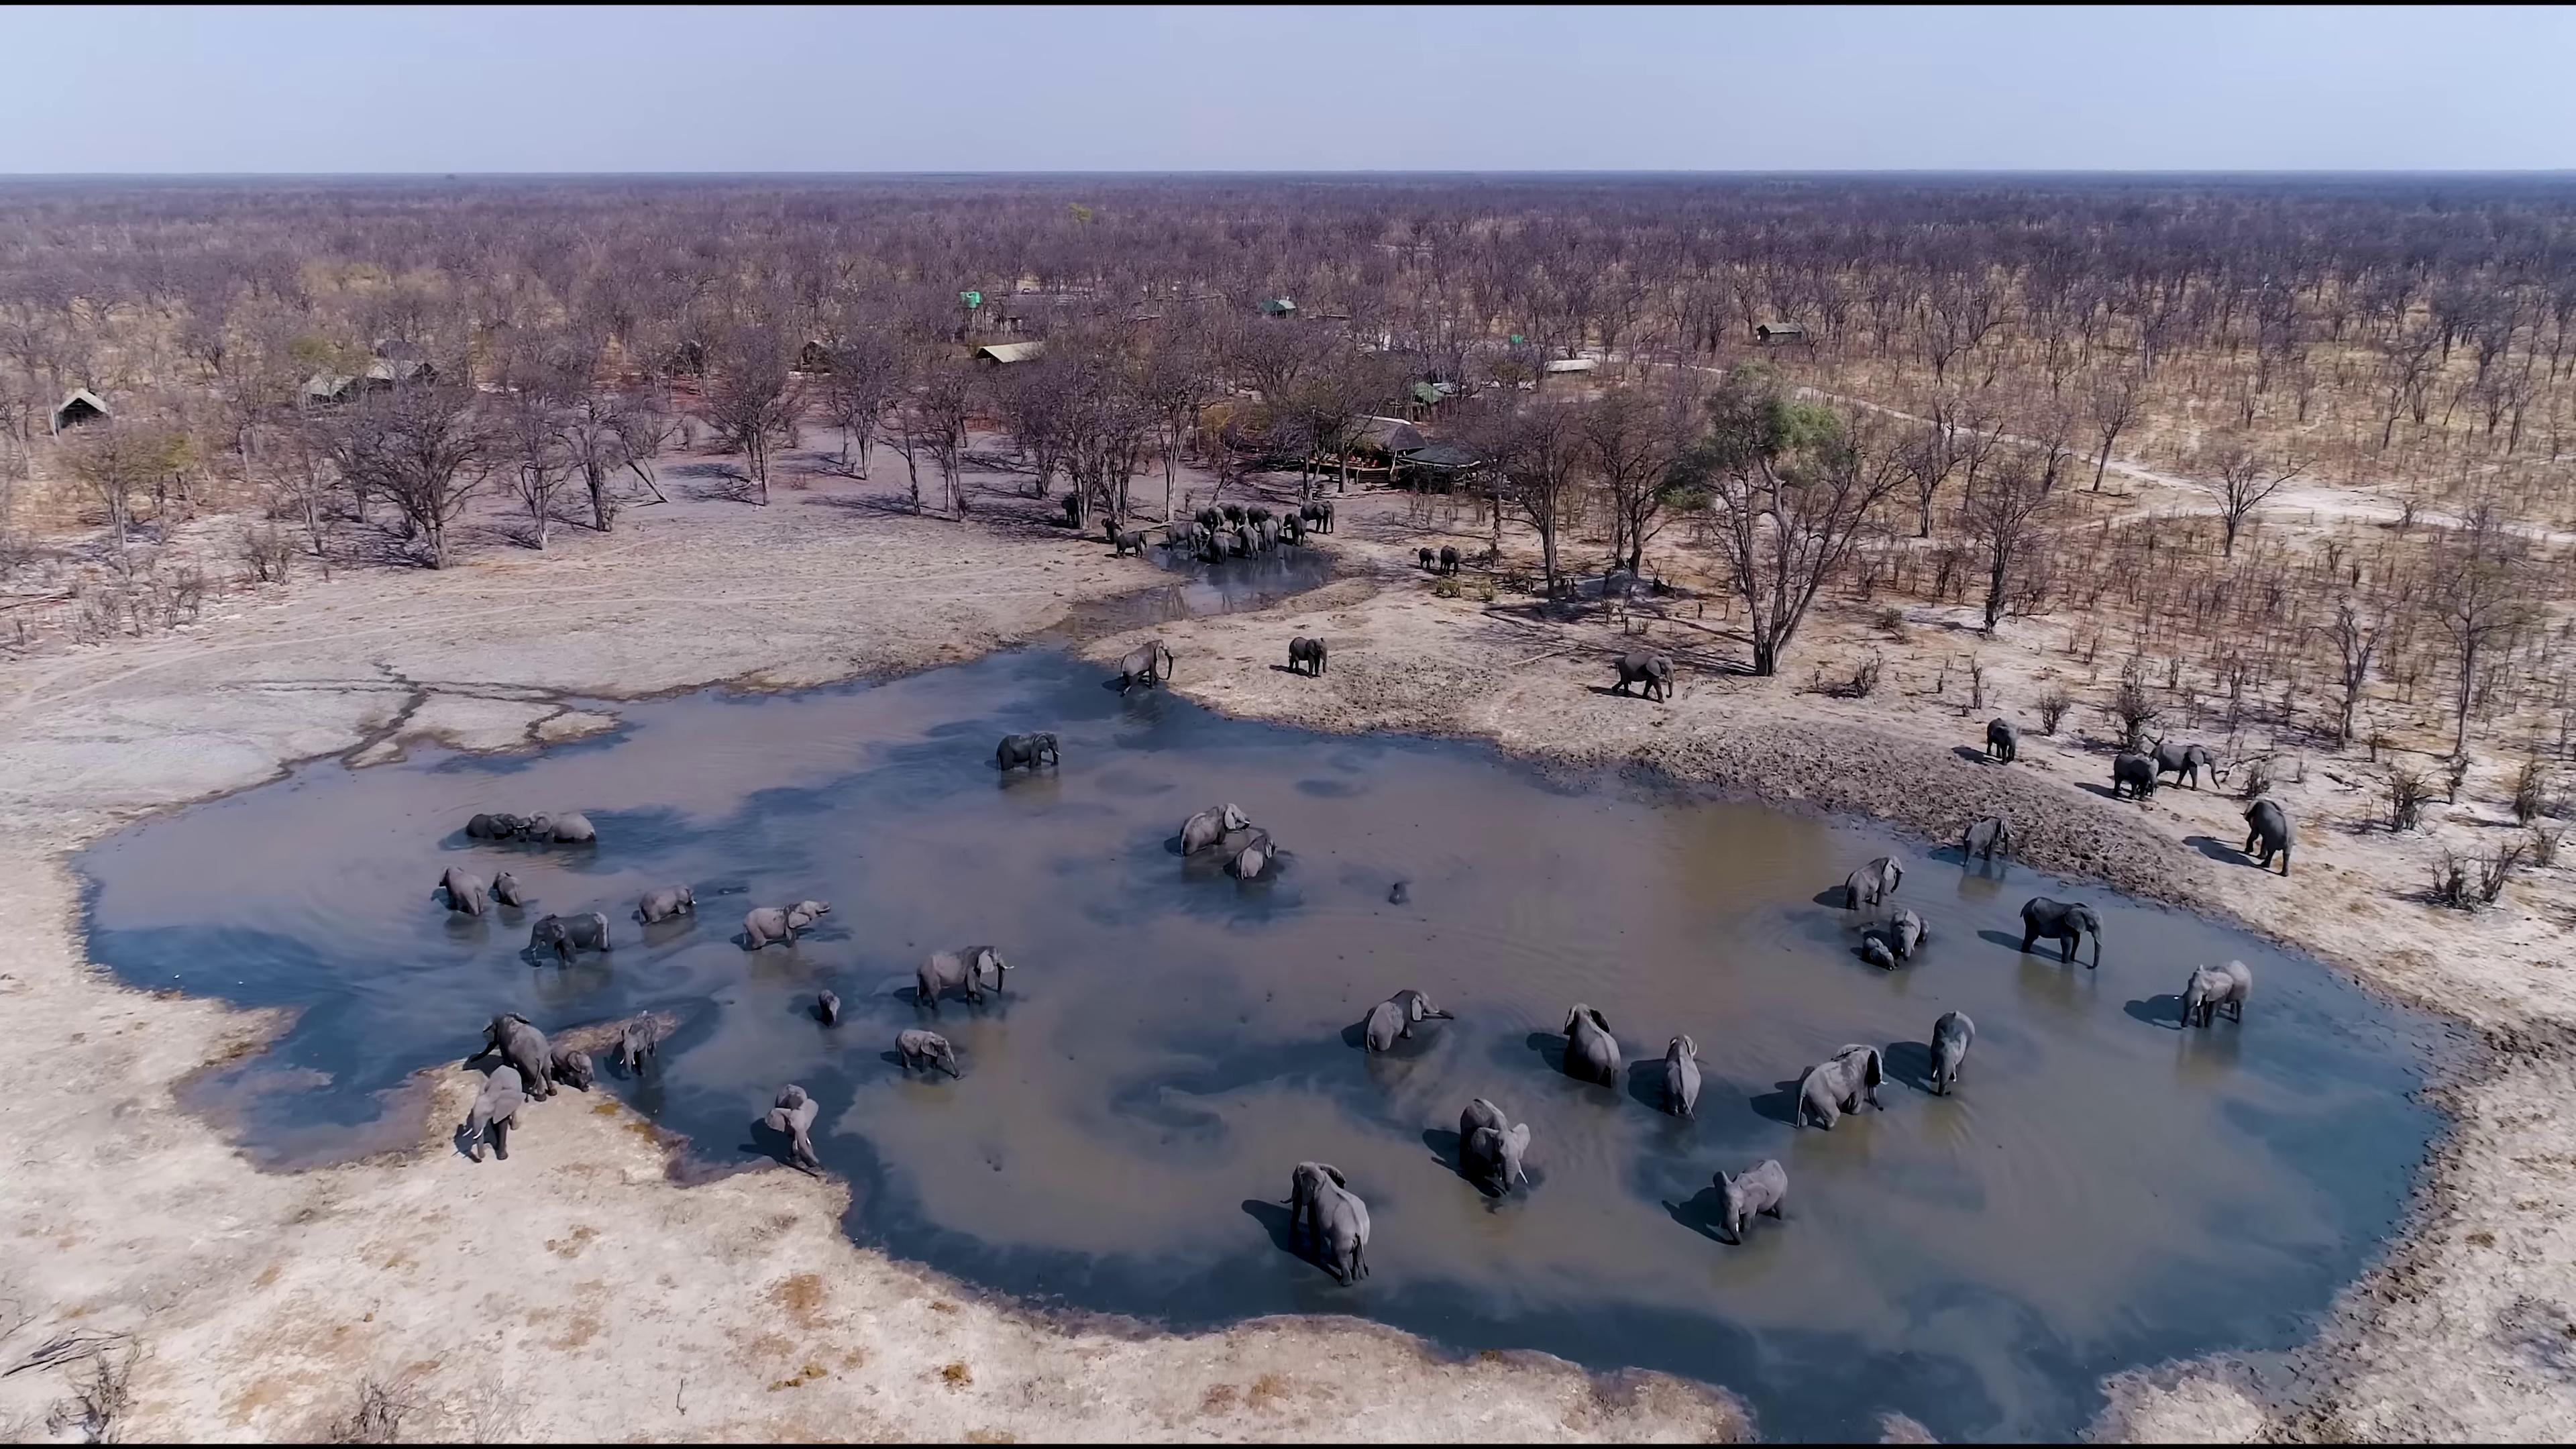elephant: (1277, 1155, 1378, 1295), (1447, 1086, 1537, 1198), (469, 1003, 557, 1115), (1704, 1145, 1798, 1249), (1792, 1037, 1891, 1134), (1550, 994, 1629, 1099), (2169, 952, 2265, 1039), (2010, 890, 2111, 970), (1355, 985, 1465, 1056), (1644, 1024, 1714, 1132), (458, 1058, 527, 1166), (906, 943, 1012, 1012), (740, 890, 840, 961), (522, 904, 617, 977), (1918, 998, 1980, 1106), (2233, 791, 2302, 883), (757, 1076, 824, 1166), (1178, 794, 1256, 867), (2146, 738, 2229, 801), (1106, 632, 1184, 699), (890, 1021, 961, 1083), (635, 878, 701, 941), (1840, 851, 1907, 913), (518, 803, 602, 853), (991, 724, 1062, 780), (1612, 646, 1677, 706), (616, 1005, 663, 1086), (430, 860, 490, 922), (2109, 743, 2162, 809), (550, 1037, 603, 1097), (1960, 812, 2015, 869), (462, 809, 527, 853), (1976, 713, 2026, 768), (1230, 826, 1279, 878), (1284, 632, 1338, 679), (1856, 925, 1898, 977), (1886, 906, 1923, 962), (1161, 518, 1208, 559), (488, 863, 527, 913), (810, 980, 847, 1031), (1297, 497, 1339, 536), (1058, 488, 1093, 533), (1113, 527, 1150, 559), (1207, 524, 1235, 564), (1281, 511, 1311, 548), (1260, 511, 1284, 556), (1237, 524, 1261, 561), (1247, 502, 1276, 533), (1194, 502, 1228, 527), (1438, 541, 1461, 577), (1217, 501, 1247, 525), (1417, 547, 1437, 571)
